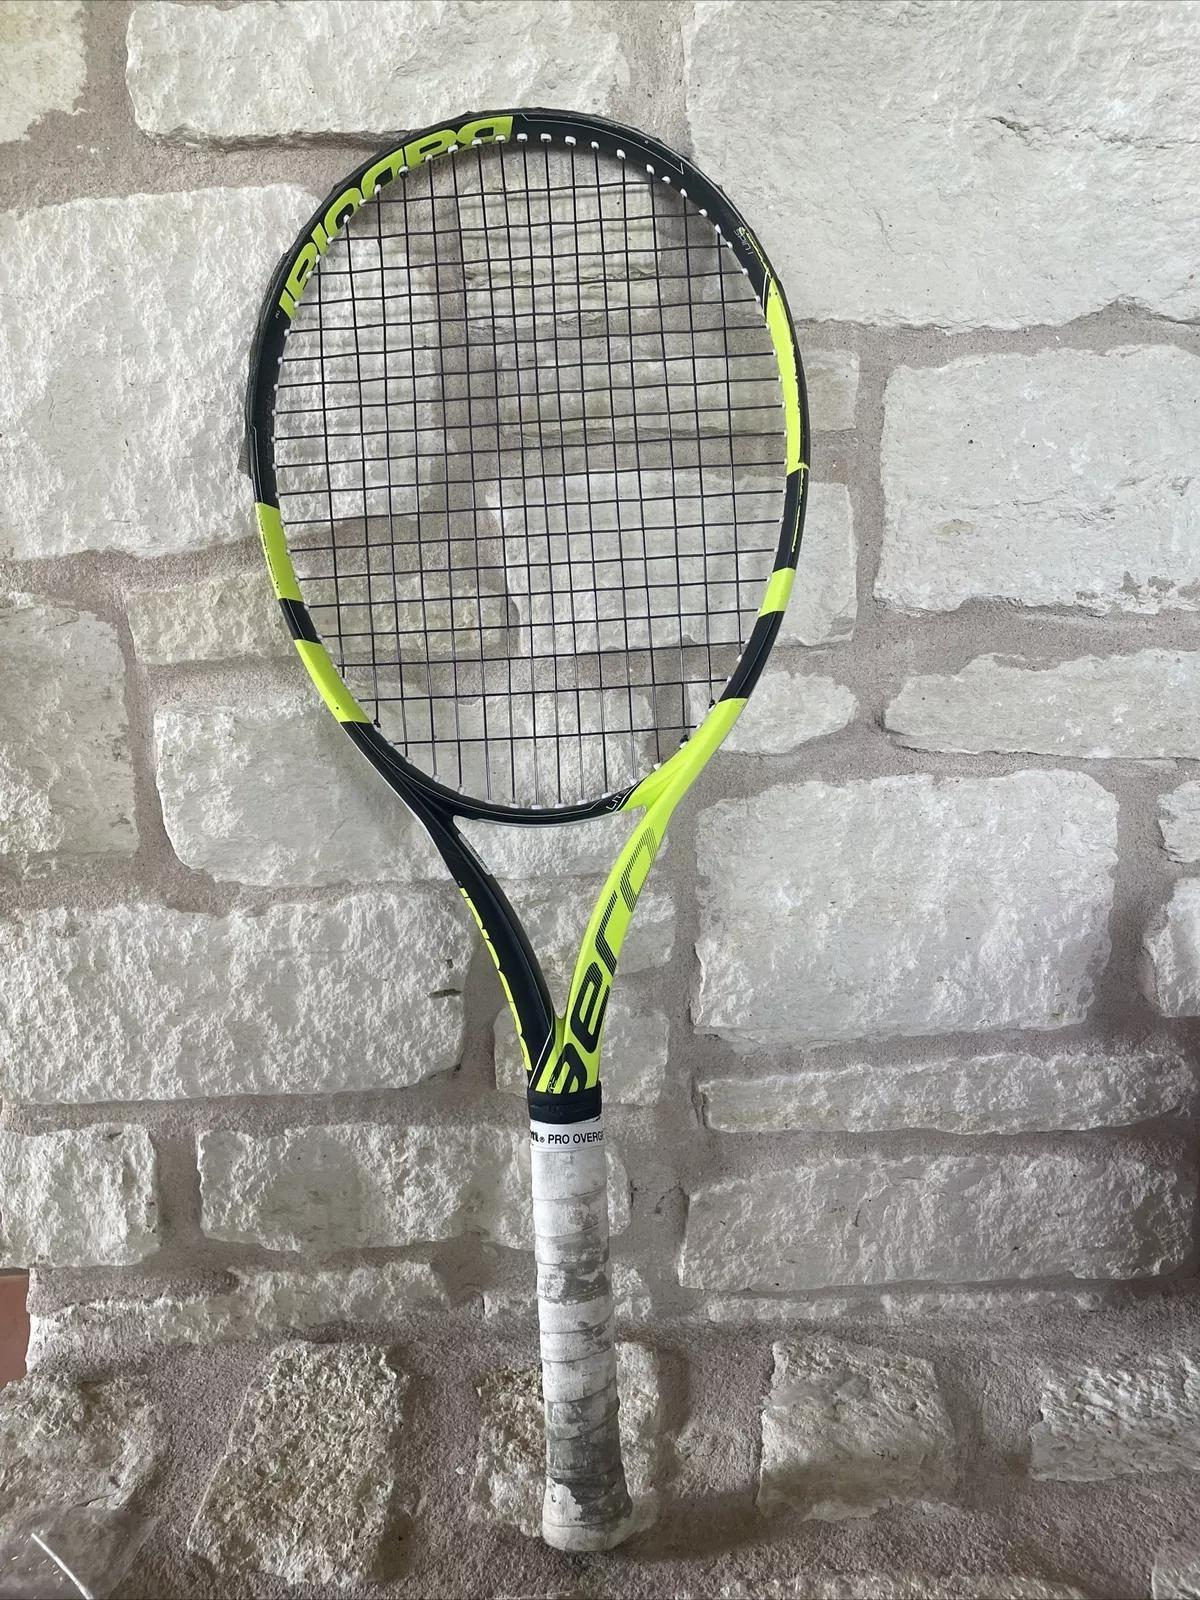Tennis-Racket: (250, 110, 809, 1550)
